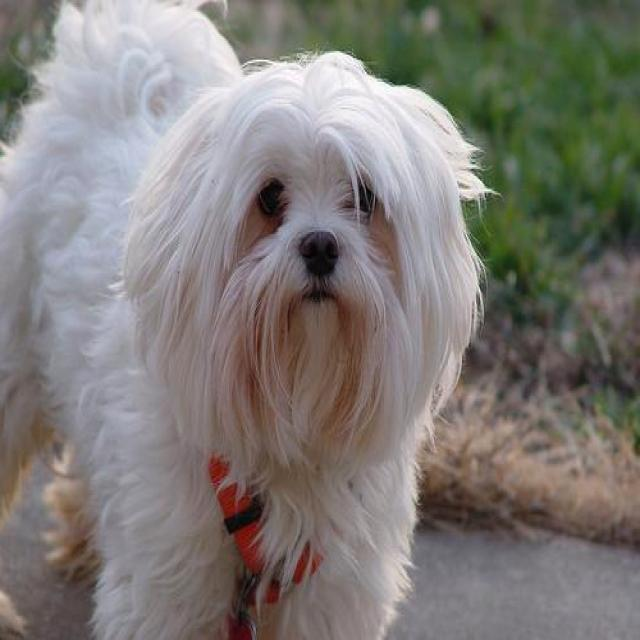maltese_dog: (2, 0, 498, 638)
